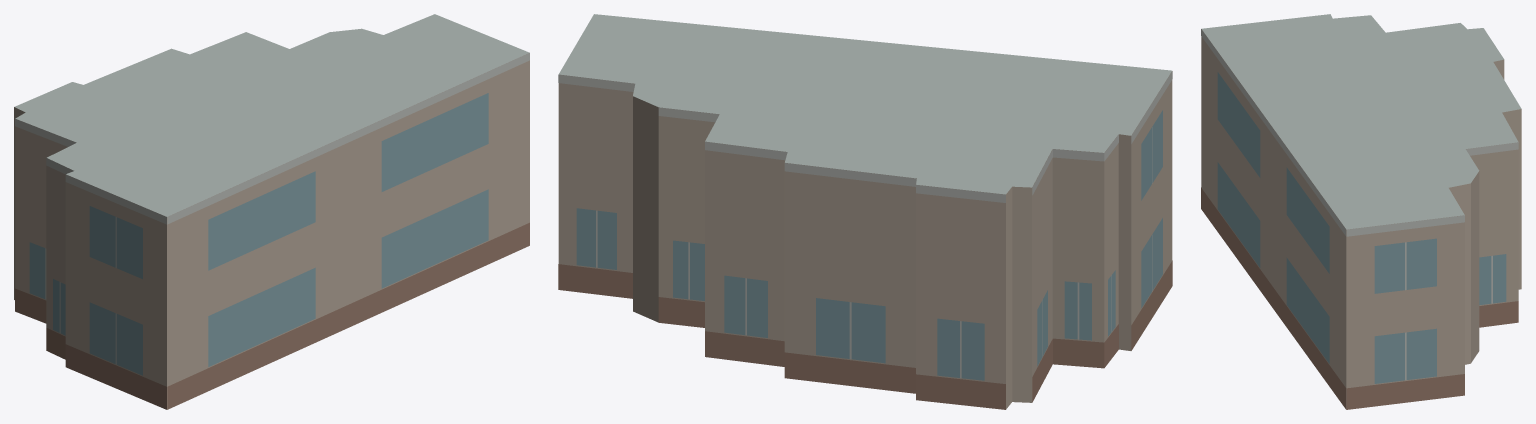
File: survey-upis-32535849.glb
3 views of the same model, side by side, from view 1: azimuth 30°, elevation 25°; view 2: azimuth 150°, elevation 25°; view 3: azimuth 270°, elevation 25° (orthographic). The views are drawn at different scales.
Visible parts, largest first — view 1: survey-upis-32535849.tmp; view 2: survey-upis-32535849.tmp; view 3: survey-upis-32535849.tmp.
Boxes of the visible parts, x1,y1,x2,y2 form: survey-upis-32535849.tmp: [14, 14, 529, 409]; survey-upis-32535849.tmp: [558, 14, 1172, 409]; survey-upis-32535849.tmp: [1201, 14, 1521, 409].
Size of the model in its own units: 15.65 by 6.1 by 9.84.
